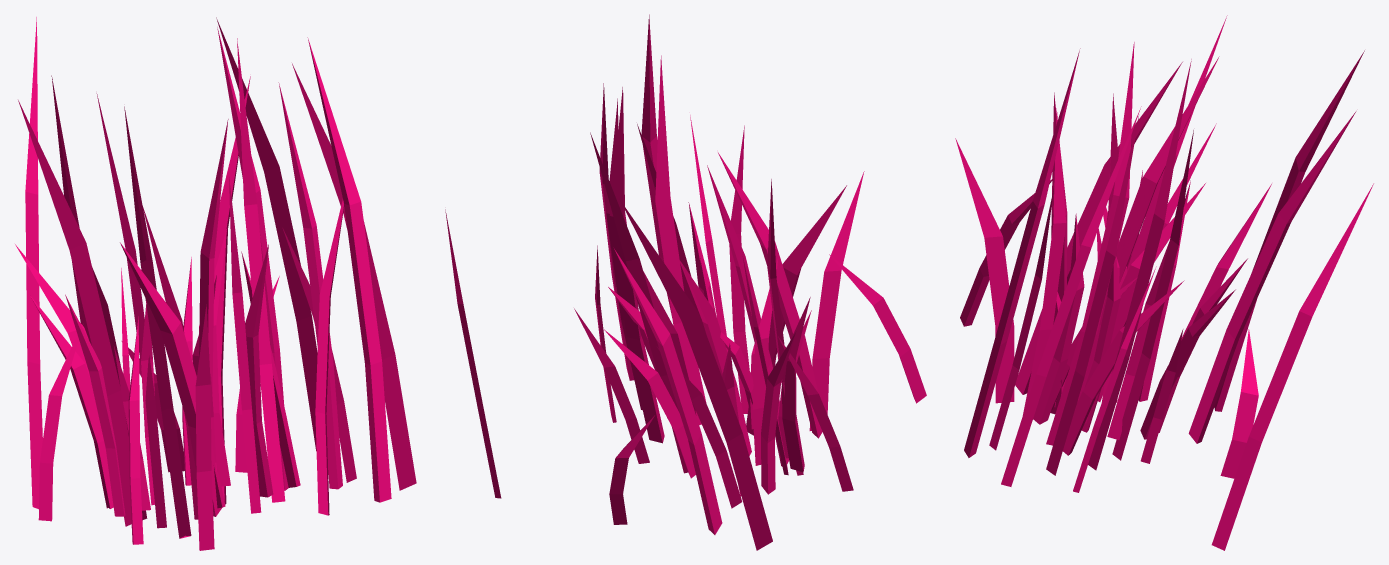
The model's file is SM_SS_Grass_5.fbx.
The picture shows the model from 3 angles, left to right: view 1: azimuth 30°, elevation 25°; view 2: azimuth 150°, elevation 25°; view 3: azimuth 270°, elevation 25°; orthographic projection. The views are drawn at different scales.
Parts seen in each view (by area): view 1: SM_SS_Grass_5; view 2: SM_SS_Grass_5; view 3: SM_SS_Grass_5.
Boxes of the visible parts, <box> form: SM_SS_Grass_5: <box>15,17,416,550</box>; SM_SS_Grass_5: <box>445,14,926,550</box>; SM_SS_Grass_5: <box>955,15,1373,550</box>.
Size of the model in its own units: 32.4 by 36.91 by 44.84.
